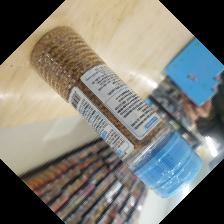TayNinh_blue: (30, 25, 201, 200)
